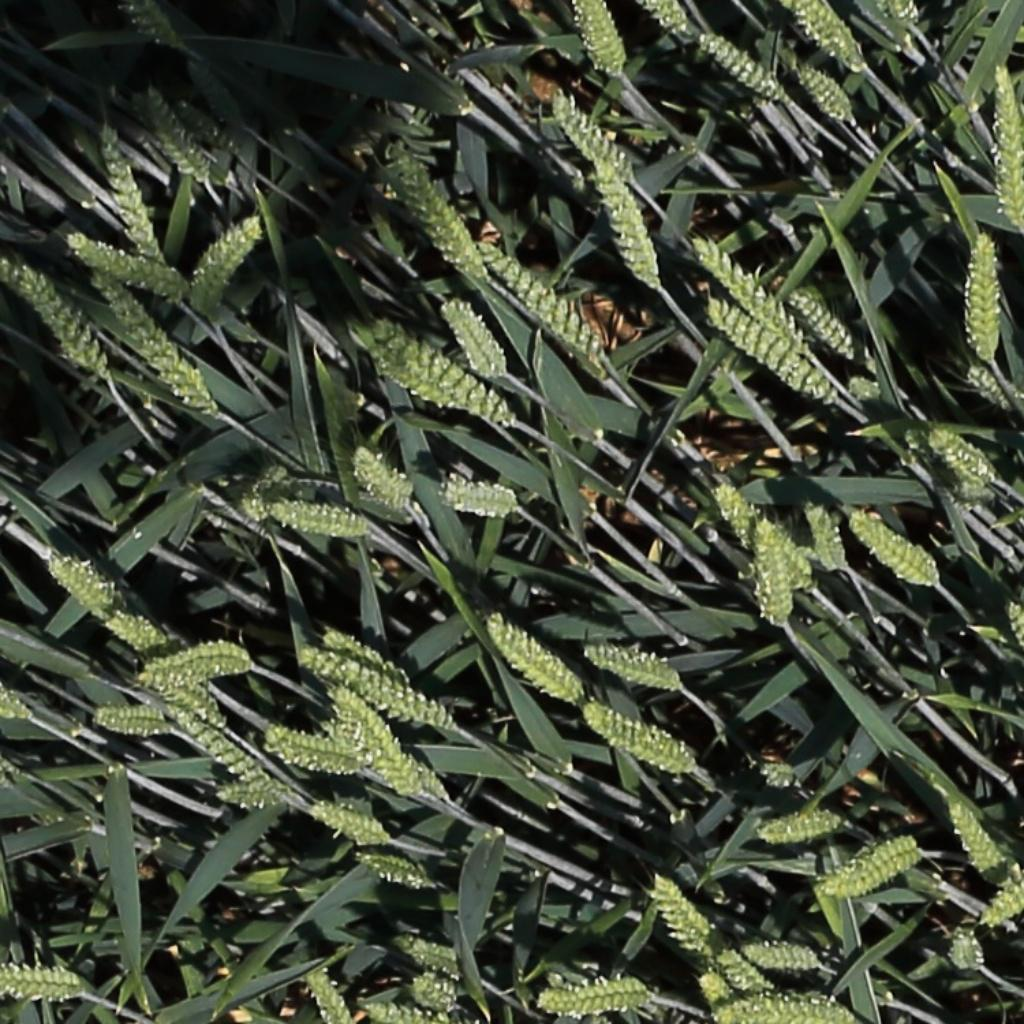0-0: (81, 266, 223, 420), (472, 238, 603, 361), (383, 140, 489, 286), (705, 297, 835, 404), (297, 648, 461, 730), (688, 232, 802, 345), (91, 114, 171, 273), (380, 341, 524, 427), (8, 259, 109, 376), (324, 711, 452, 800), (328, 685, 424, 799), (589, 151, 659, 292), (485, 605, 584, 703), (166, 712, 275, 795), (582, 702, 697, 778), (184, 211, 266, 311), (547, 88, 634, 181), (135, 81, 210, 185), (62, 234, 184, 294), (370, 337, 467, 410), (849, 513, 942, 589), (821, 828, 922, 897), (787, 285, 869, 368), (647, 875, 718, 965), (697, 30, 783, 102), (957, 232, 1005, 361), (438, 293, 506, 382), (904, 430, 987, 502), (942, 795, 1007, 882), (318, 629, 415, 684), (139, 636, 255, 681), (260, 720, 356, 774), (993, 66, 1024, 232), (756, 517, 815, 604), (181, 45, 244, 124), (845, 374, 933, 430), (139, 670, 222, 729), (787, 0, 858, 68), (174, 95, 245, 163), (568, 0, 626, 83), (537, 975, 650, 1017), (346, 442, 410, 513), (715, 993, 856, 1024), (582, 647, 681, 690), (753, 518, 790, 630), (800, 495, 850, 577), (790, 60, 854, 124), (708, 477, 760, 555), (47, 557, 117, 614), (928, 427, 996, 483), (0, 399, 42, 483), (307, 804, 387, 846), (442, 474, 518, 518), (391, 935, 462, 981), (0, 963, 79, 1004), (263, 505, 367, 536), (120, 1, 181, 53), (299, 962, 349, 1024), (962, 360, 1018, 415), (756, 810, 852, 841), (352, 853, 430, 891), (92, 703, 171, 738), (714, 947, 770, 996), (981, 869, 1024, 925), (1000, 595, 1024, 692), (408, 972, 457, 1013), (693, 966, 733, 1015), (741, 946, 820, 969), (951, 921, 984, 976), (643, 0, 689, 38), (363, 1002, 442, 1024), (211, 787, 282, 811), (886, 0, 921, 31)
